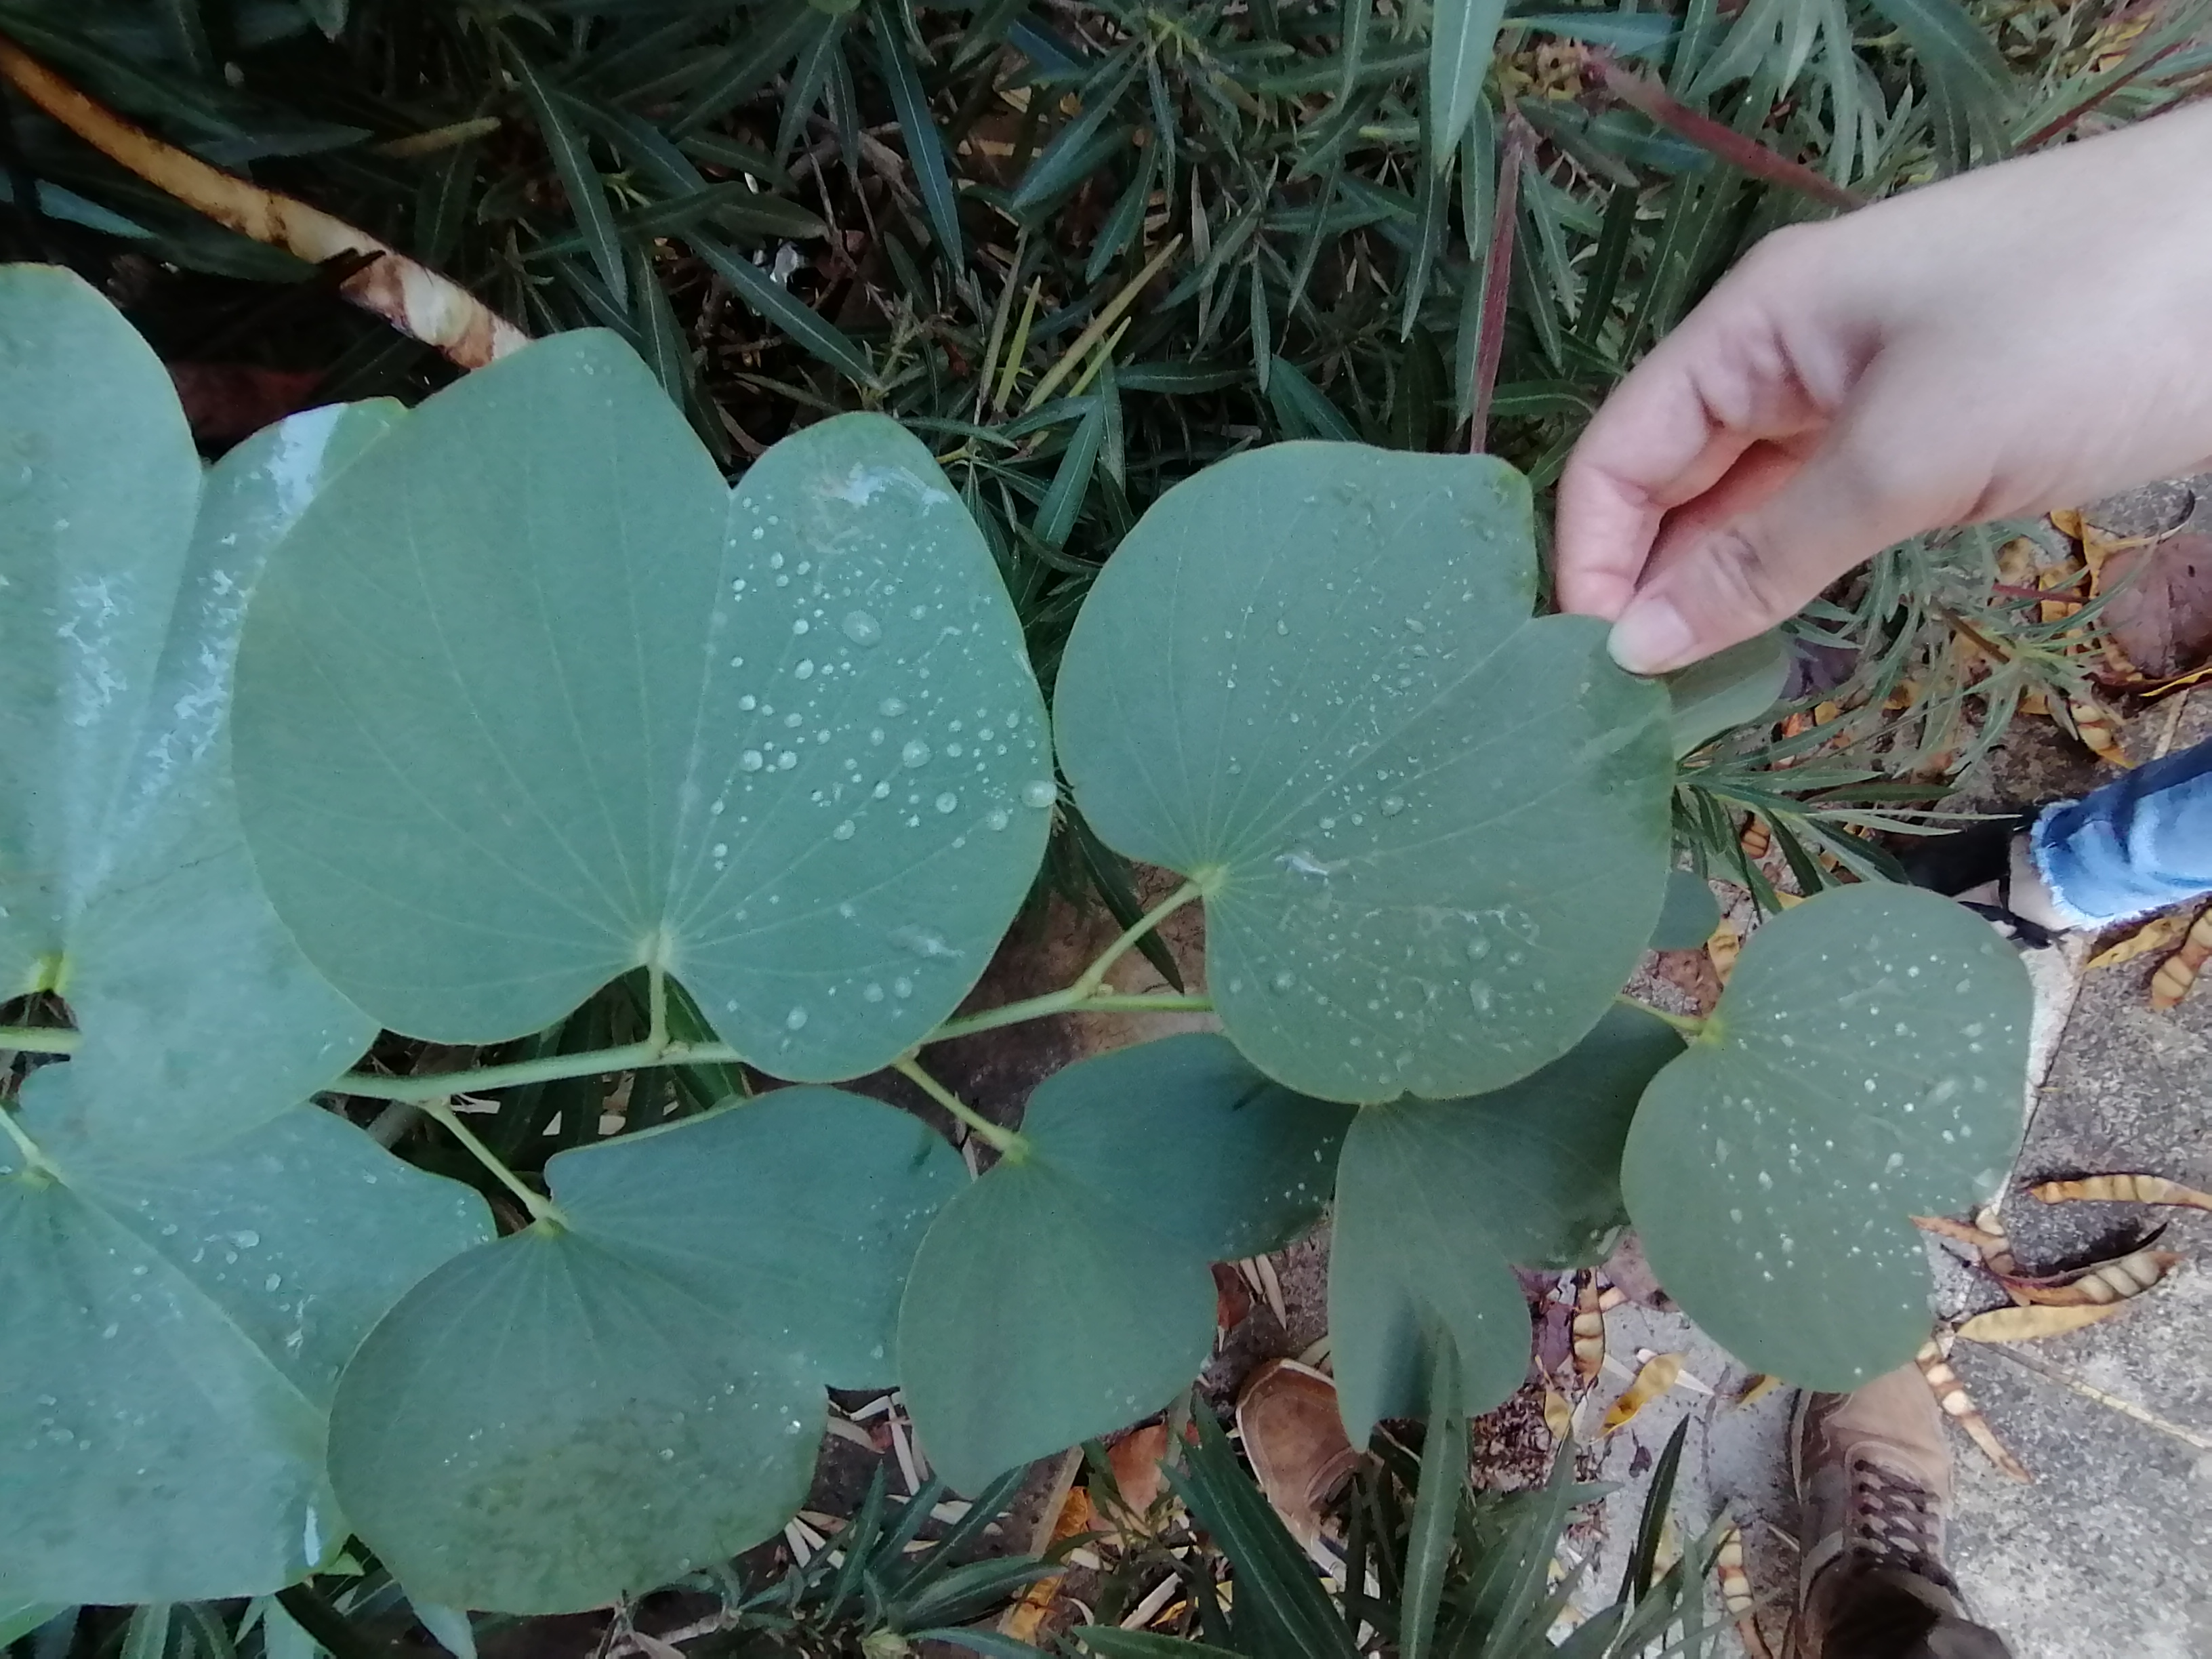healthy: (305, 418, 1036, 1084), (1080, 418, 1649, 1096), (327, 1046, 1007, 1600), (887, 990, 1332, 1497), (1604, 939, 2064, 1359), (1322, 1011, 1653, 1401)
